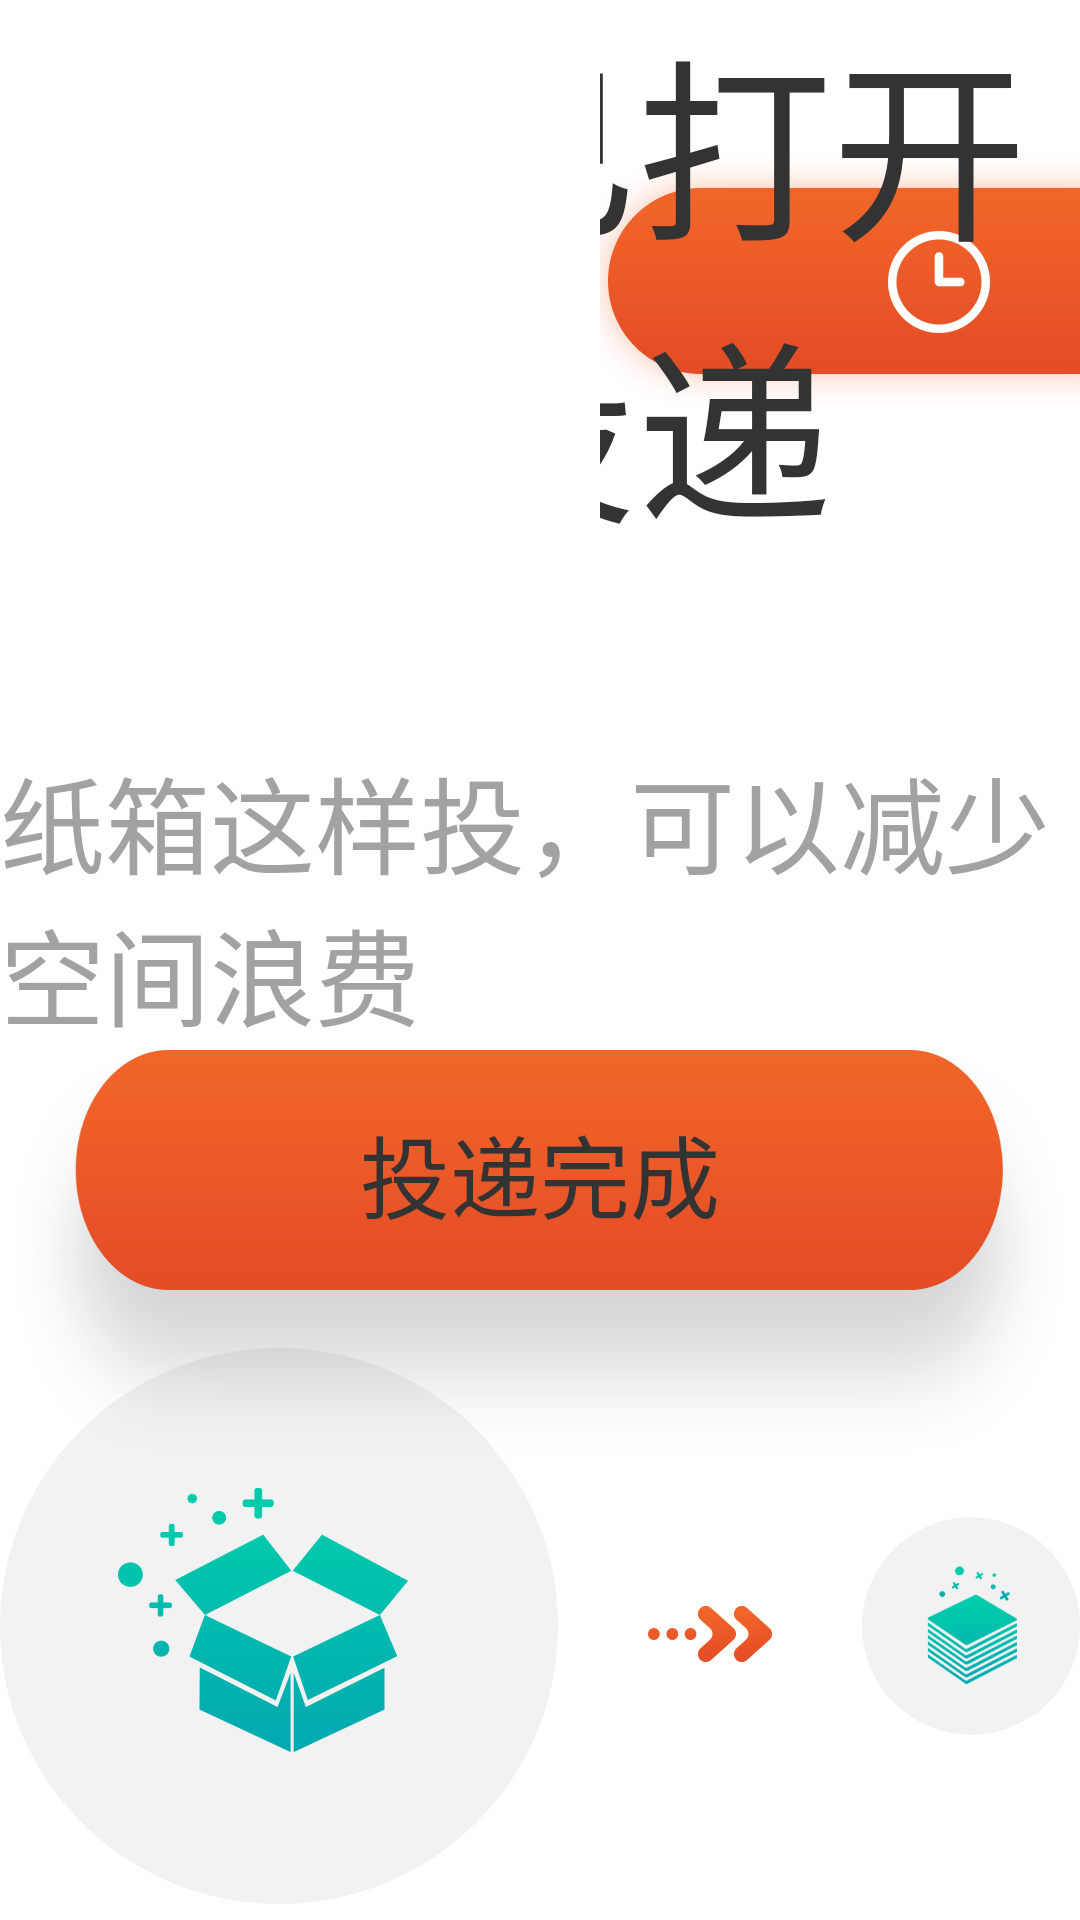

Icons on this 1080 x 1920 Android screen, each with the point to tap as point (x, y):
next step: point (710, 1634)
timer whrite: point (939, 282)
